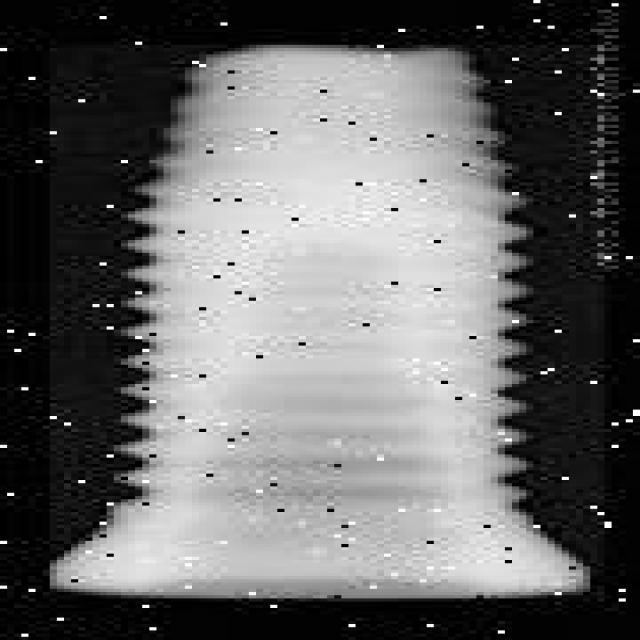Retained root: (50, 45, 604, 598)
